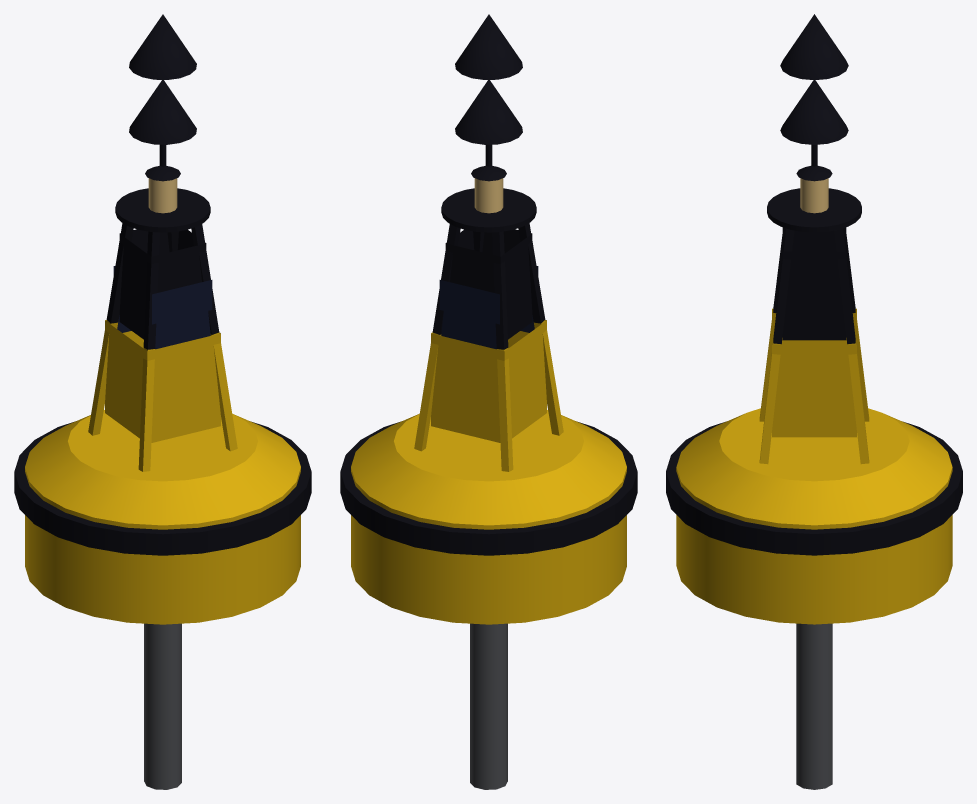
Rendered from buoy_cardinal_north.glb.
3 renders of one model, left to right at view 1: azimuth 30°, elevation 25°; view 2: azimuth 150°, elevation 25°; view 3: azimuth 270°, elevation 25°, orthographic.
Visible parts, largest first — view 1: buoy_cardinal_north; view 2: buoy_cardinal_north; view 3: buoy_cardinal_north.
Boxes of the visible parts, bbox=[...] form: buoy_cardinal_north: bbox=[14, 14, 311, 789]; buoy_cardinal_north: bbox=[340, 14, 637, 789]; buoy_cardinal_north: bbox=[666, 14, 962, 789].
Size of the model in its own units: 3.12 by 8.9 by 3.12.
